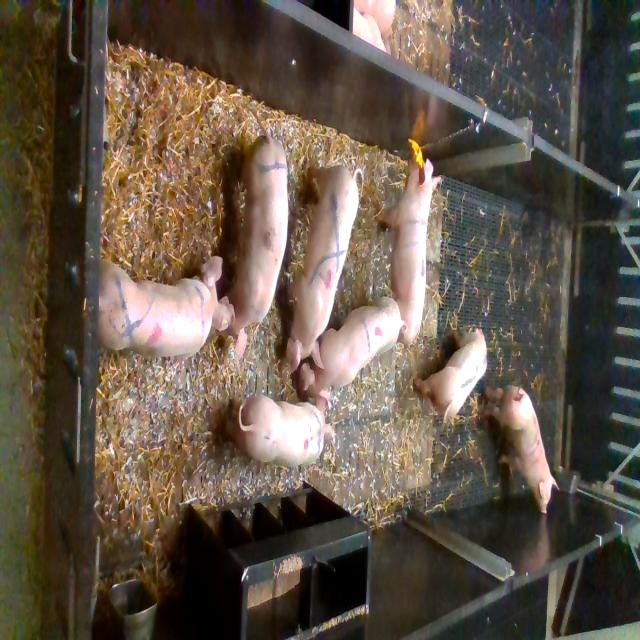pig: (219, 104, 288, 361), (281, 164, 364, 373), (98, 256, 233, 358), (299, 297, 408, 401), (375, 155, 433, 347), (484, 385, 560, 513), (225, 396, 336, 469), (412, 328, 487, 423)
